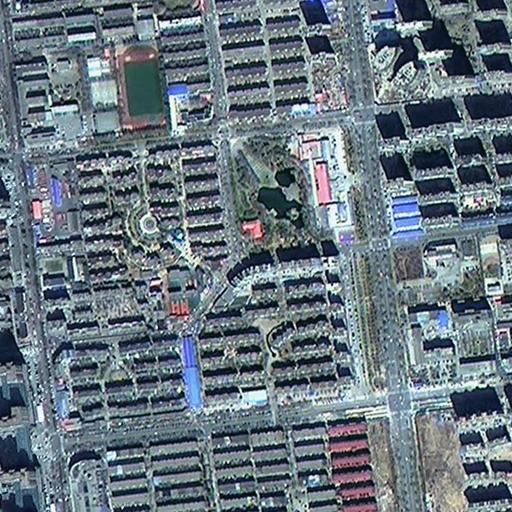school: (164, 254, 211, 323)
